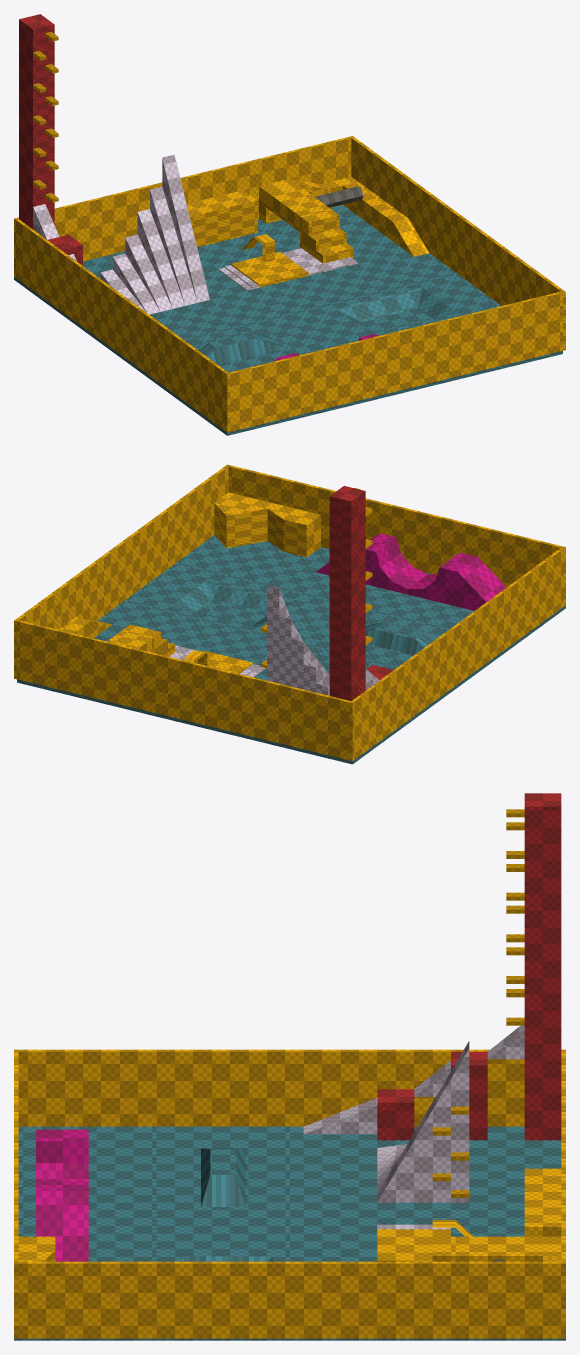
The model's file is playground_01.glb.
3 renders of one model, top to bottom at view 1: azimuth 30°, elevation 25°; view 2: azimuth 150°, elevation 25°; view 3: azimuth 270°, elevation 25°, orthographic. The views are drawn at different scales.
Visible parts, largest first — view 1: Cube.001; view 2: Cube.001; view 3: Cube.001.
Boxes of the visible parts, x1,y1,x2,y2 form: Cube.001: [14, 14, 565, 435]; Cube.001: [14, 464, 565, 764]; Cube.001: [14, 793, 565, 1340].
Size of the model in its own units: 110 by 83 by 120.
Materials: 6 (6 with a texture image).
